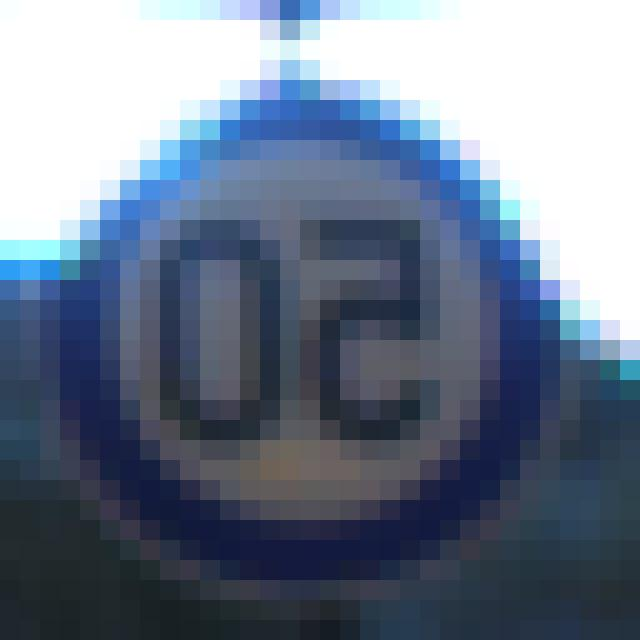SPEED LIMIT 50: (82, 136, 538, 524)
